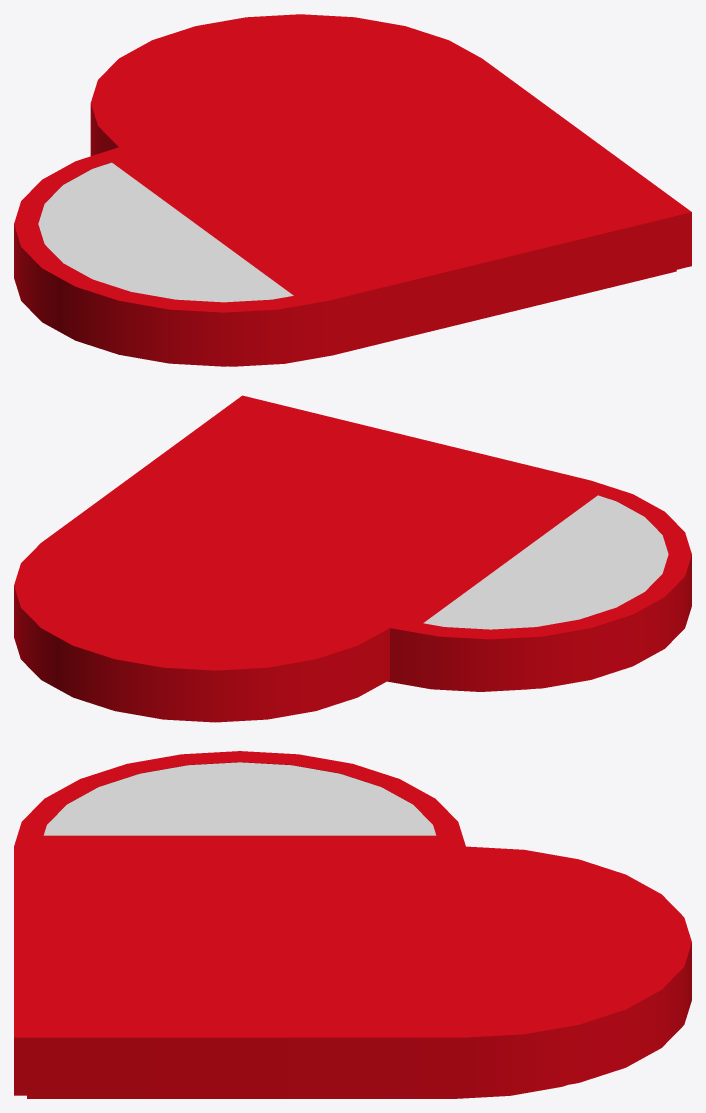
The model's file is ValentineChocolateBox.fbx.
The picture shows the model from 3 angles, top to bottom: view 1: azimuth 30°, elevation 25°; view 2: azimuth 150°, elevation 25°; view 3: azimuth 270°, elevation 25°; orthographic projection. The views are drawn at different scales.
Visible parts, largest first — view 1: TopBoxHeart, GlassCircle, BottomBoxHeart; view 2: TopBoxHeart, GlassCircle; view 3: TopBoxHeart, GlassCircle, BottomBoxHeart.
Part boxes in pixels (x1=…): TopBoxHeart: x1=14, y1=14, x2=691, y2=366; GlassCircle: x1=38, y1=162, x2=293, y2=302; BottomBoxHeart: x1=228, y1=270, x2=676, y2=366; TopBoxHeart: x1=14, y1=395, x2=691, y2=722; GlassCircle: x1=423, y1=495, x2=668, y2=629; TopBoxHeart: x1=14, y1=751, x2=691, y2=1095; GlassCircle: x1=43, y1=762, x2=436, y2=835; BottomBoxHeart: x1=27, y1=1085, x2=566, y2=1098.
Bounding box in the file's own units: 317 × 34.16 × 317.
